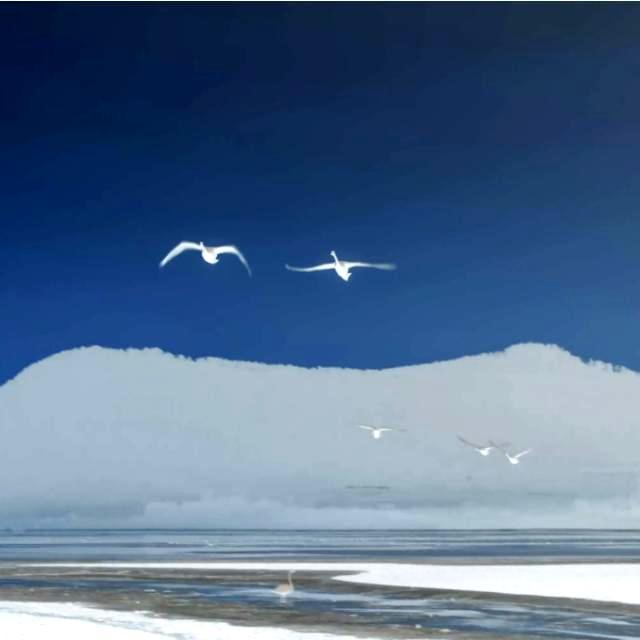bird: (286, 244, 398, 286), (158, 234, 254, 276), (356, 416, 404, 447), (504, 436, 536, 471), (457, 442, 500, 459)
